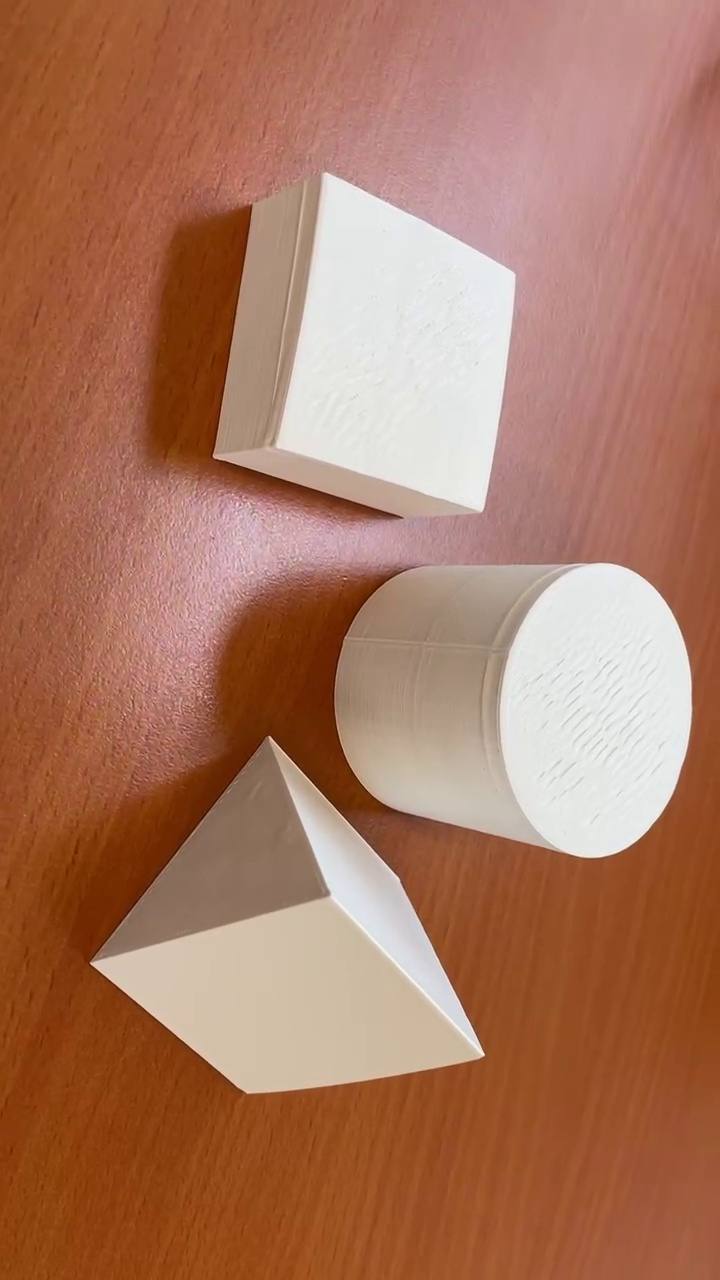Cube_short: (209, 170, 520, 524)
Cylinder: (326, 559, 693, 860)
Triangle: (89, 737, 485, 1101)
